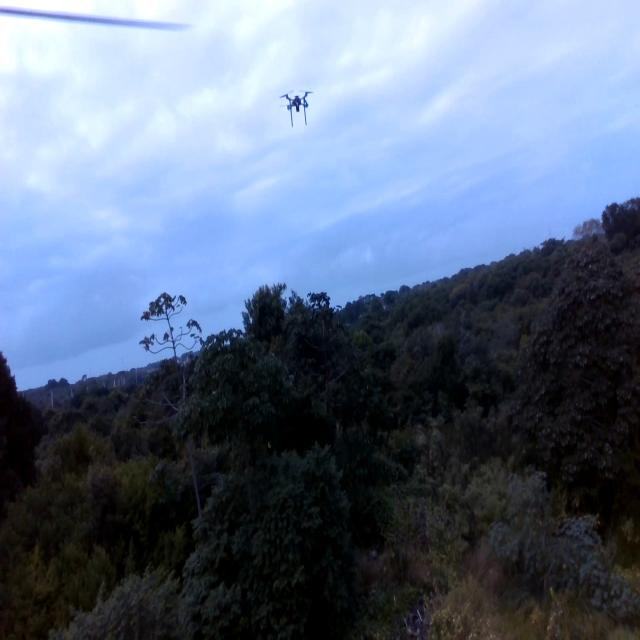-uav-: (270, 80, 320, 142)
